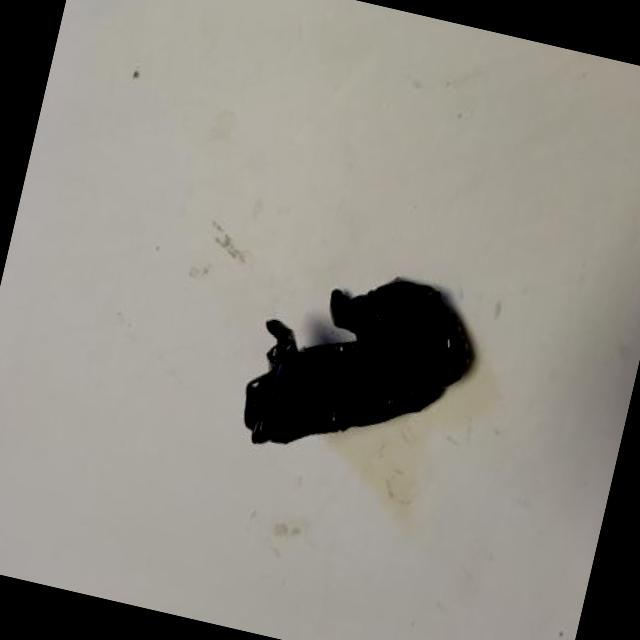Trash: (234, 248, 487, 490)
